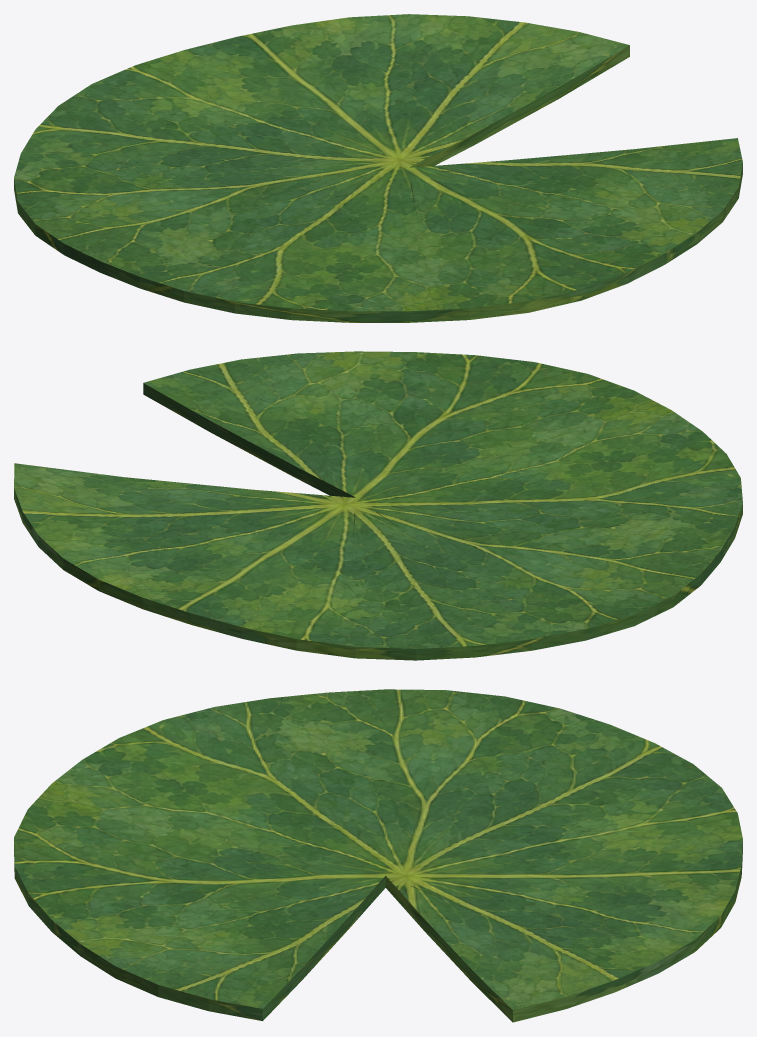
Rendered from SM_WaterLily_A.fbx.
The picture shows the model from 3 angles, top to bottom: view 1: azimuth 30°, elevation 25°; view 2: azimuth 150°, elevation 25°; view 3: azimuth 270°, elevation 25°; orthographic projection. The views are drawn at different scales.
Parts seen in each view (by area): view 1: SM_WaterLily_A; view 2: SM_WaterLily_A; view 3: SM_WaterLily_A.
Part boxes in pixels (x1=…): SM_WaterLily_A: x1=14, y1=14, x2=742, y2=322; SM_WaterLily_A: x1=14, y1=351, x2=742, y2=660; SM_WaterLily_A: x1=14, y1=689, x2=742, y2=1022.
Bounding box in the file's own units: 0.34 × 0.324 × 0.0117.
1 material, 1 textured.
